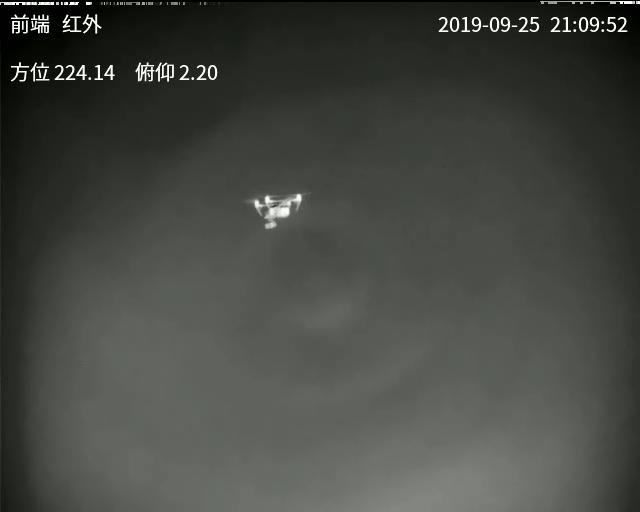uav: (247, 190, 304, 229)
